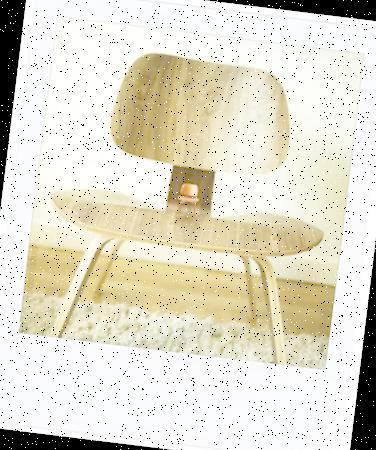Silla: (20, 28, 349, 370)
